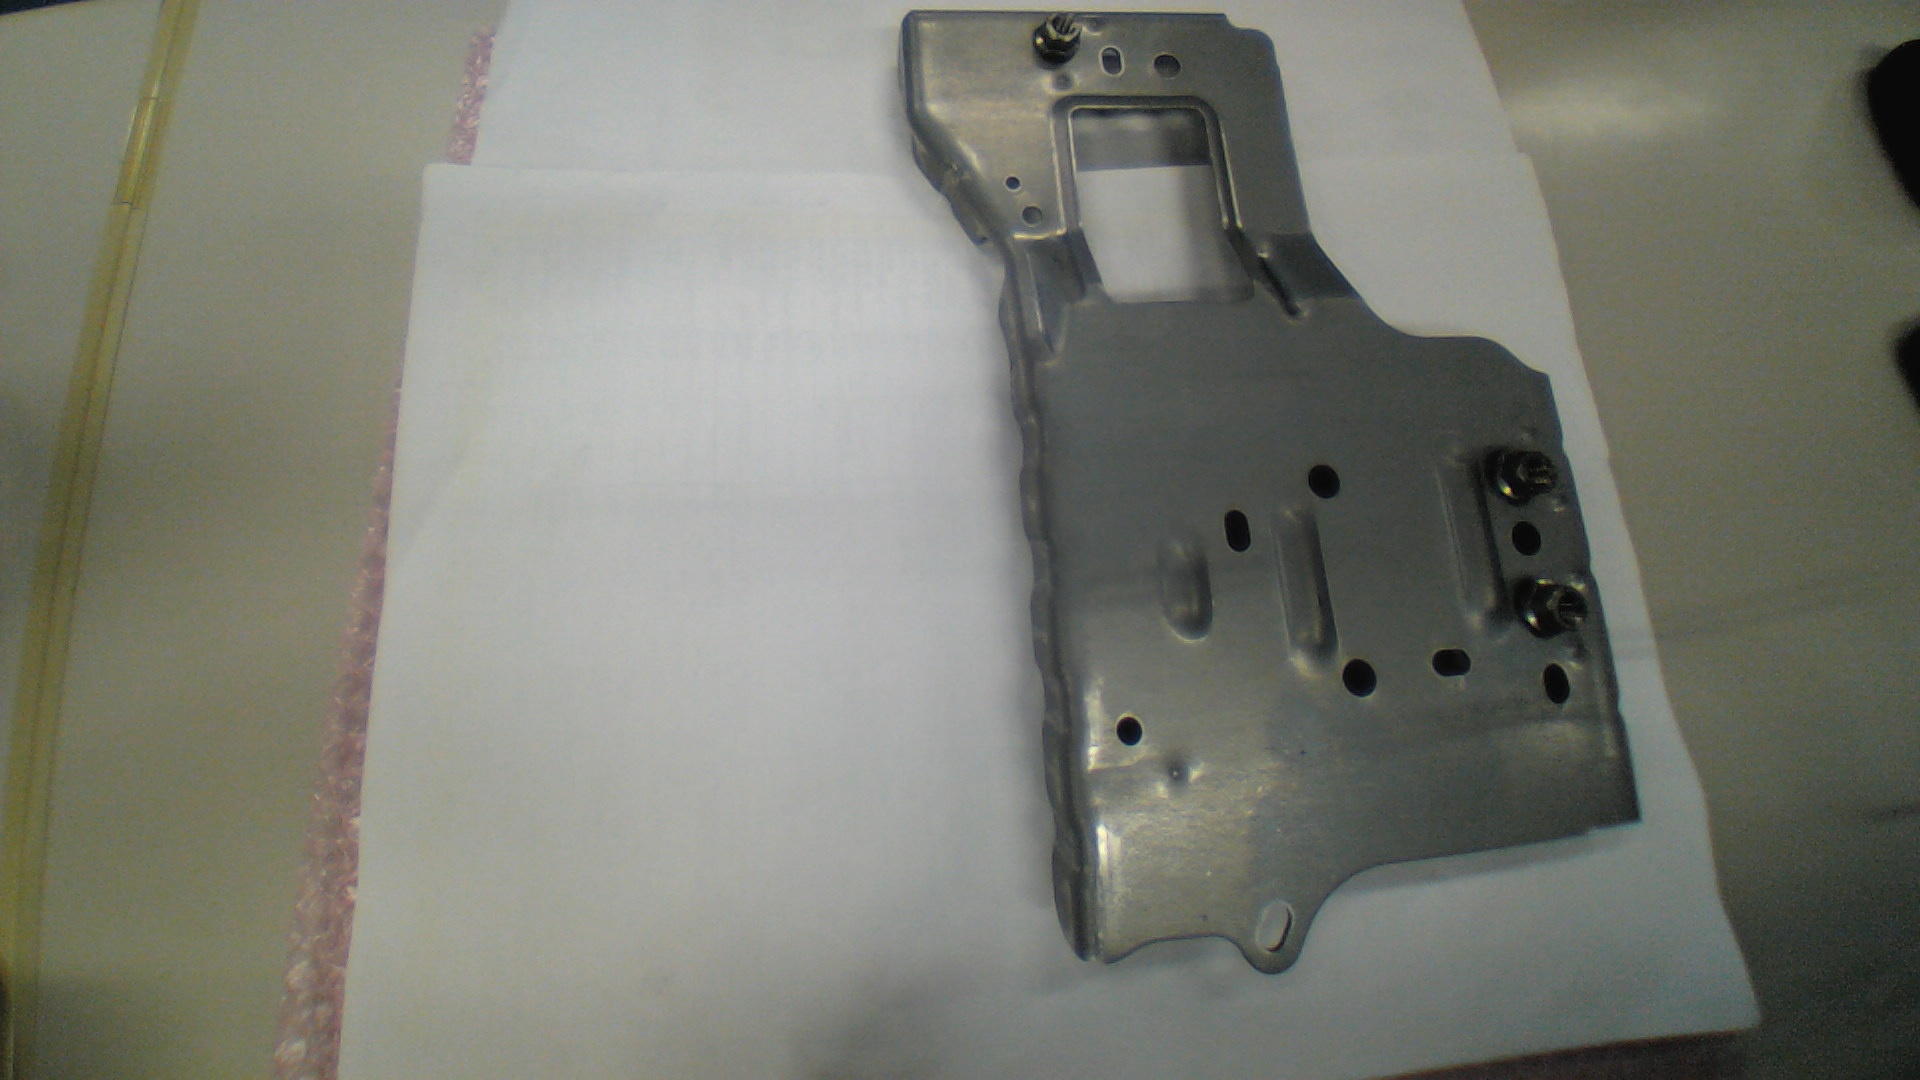dog: (1484, 444, 1560, 506), (1515, 578, 1588, 640), (1031, 12, 1080, 67)
